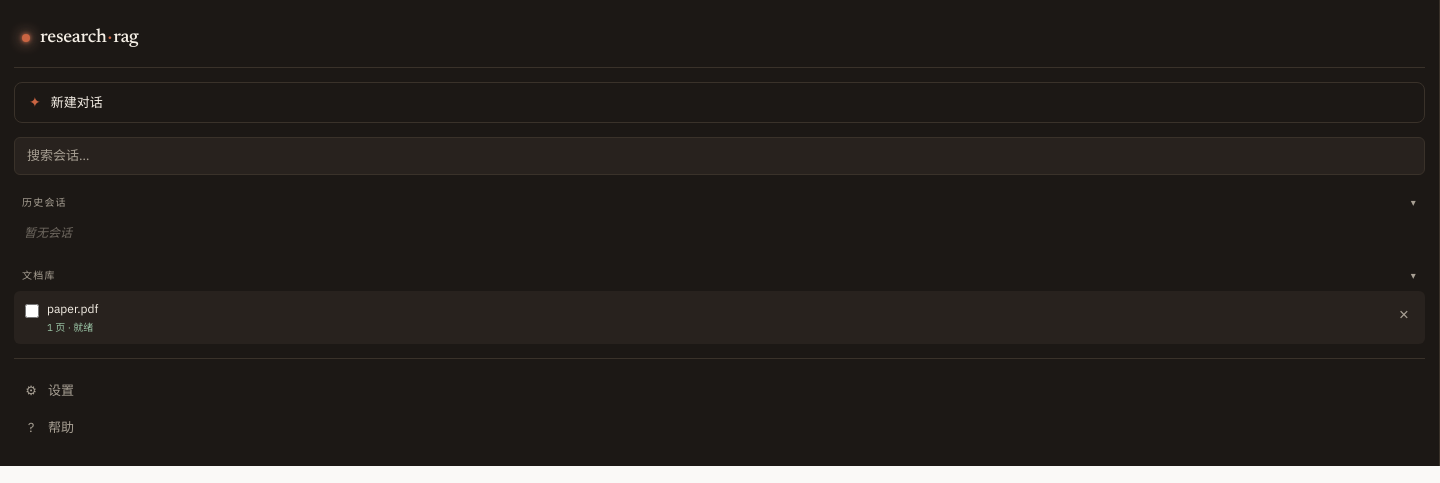
it: Sidebar › 删除文档不显示二次确认并在成功后刷新列表
Click the button named "删除文档 paper.pdf".
click(1404, 314)  # box [1390,300,1418,328]
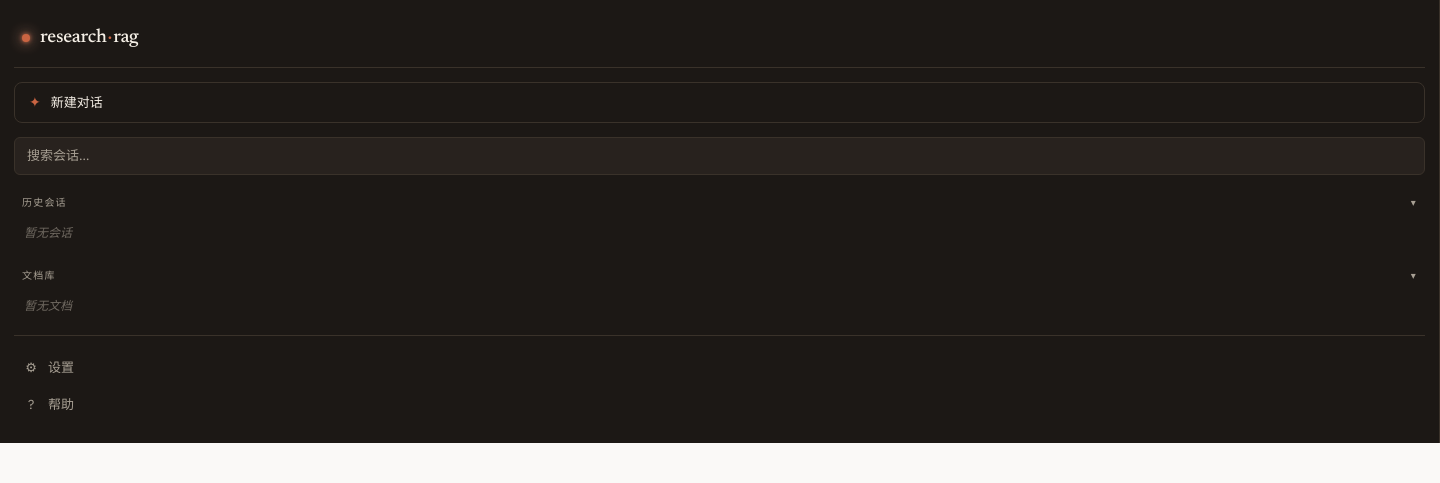
Now the text "paper.pdf" is gone
